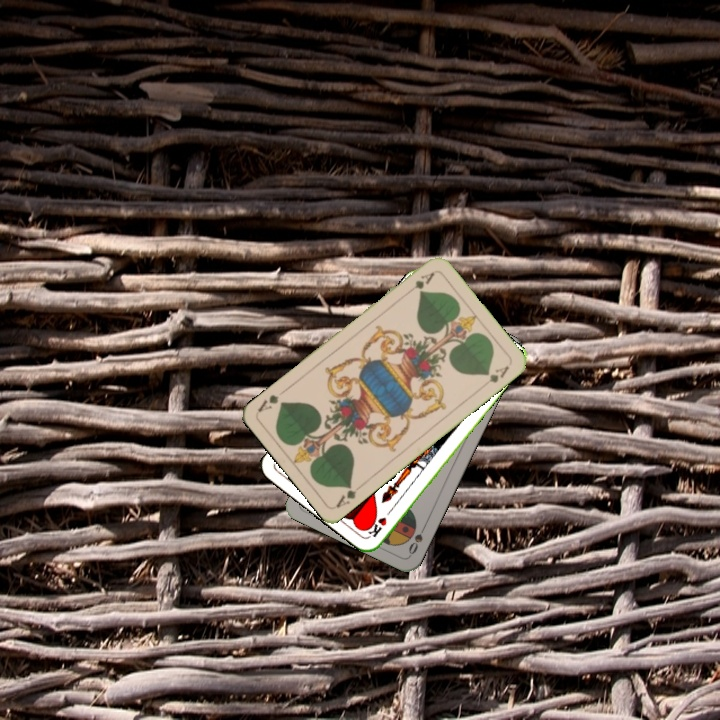GA: (332, 481, 366, 511), (402, 268, 437, 297)
HK: (364, 504, 396, 540)
SO: (404, 519, 429, 557)
